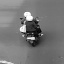mobil: (9, 8, 52, 54)
